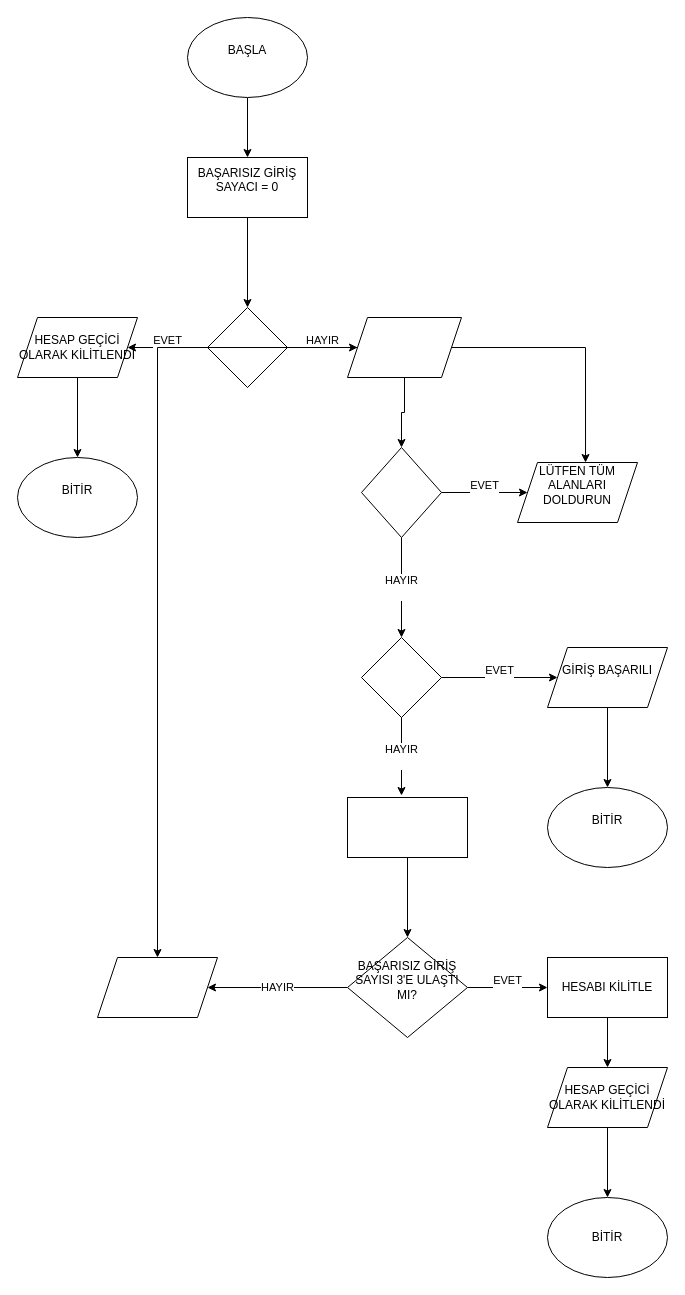
Some shapes in this 685 by 1295 pixel diagram are drawn without their labels. The shapes that lost their labels are listed below. From the top down, each one's centre as x and y in pixels, then its label:
At point 247,347: "HESAP KİLİTLİ Mİ?".
At point 404,347: "E-POSTA VE ŞİFRE AL".
At point 401,492: "E-POSTA VEYA ŞİFRE BOŞ MU?".
At point 401,677: "BİLGİLER DOĞRU MU?".
At point 407,827: "BAŞARISIZ GİRİŞ SAYACI = SAYAÇ + 1".
At point 157,987: "GİRİŞ BİLGİLERİ HATALI".
